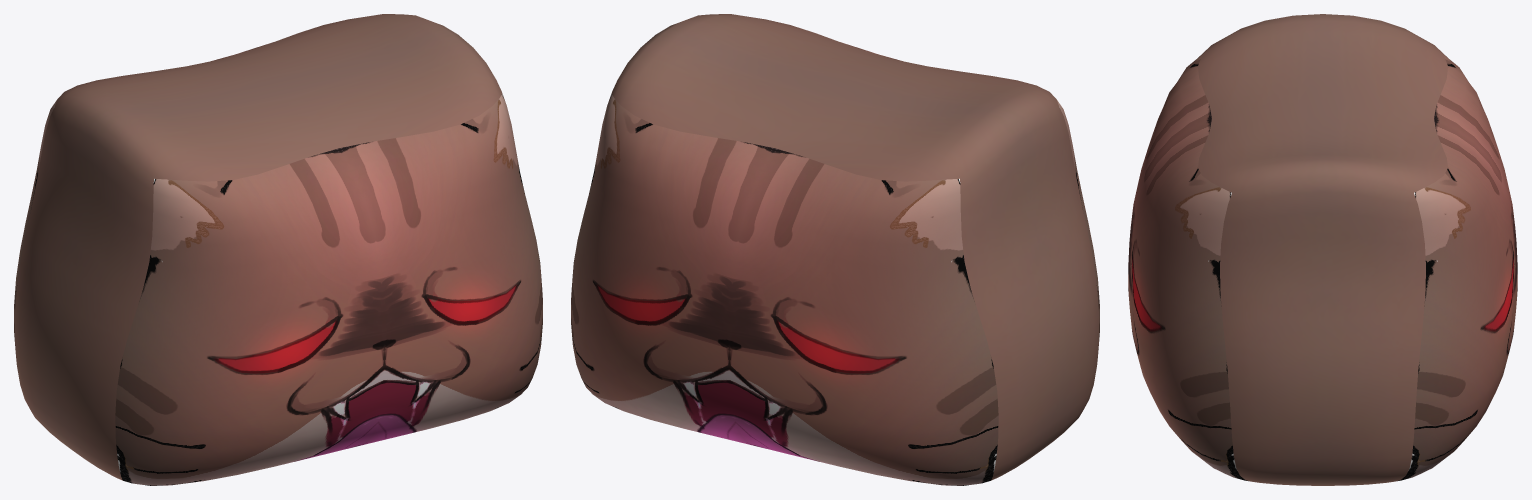
The model's file is animals_cat_0.fbx.
3 views of the same model, side by side, from view 1: azimuth 30°, elevation 25°; view 2: azimuth 150°, elevation 25°; view 3: azimuth 270°, elevation 25° (orthographic). The views are drawn at different scales.
Parts seen in each view (by area): view 1: cat_1; view 2: cat_1; view 3: cat_1.
Part boxes in pixels (x1=…): cat_1: x1=14, y1=14, x2=542, y2=485; cat_1: x1=571, y1=14, x2=1099, y2=485; cat_1: x1=1128, y1=14, x2=1517, y2=485.
Bounding box in the file's own units: 1.86 × 1.36 × 1.5.
1 material, 1 textured.
